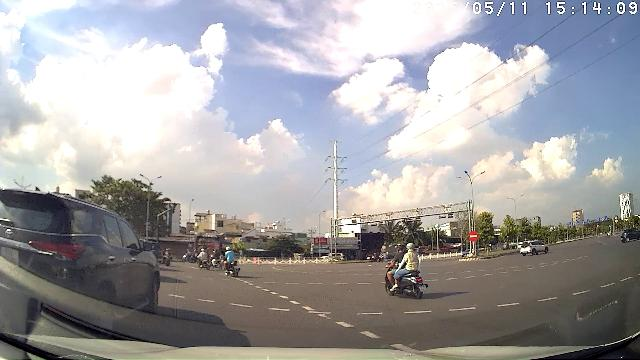102-cam-di-nguoc-chieu: (468, 231, 478, 241)
